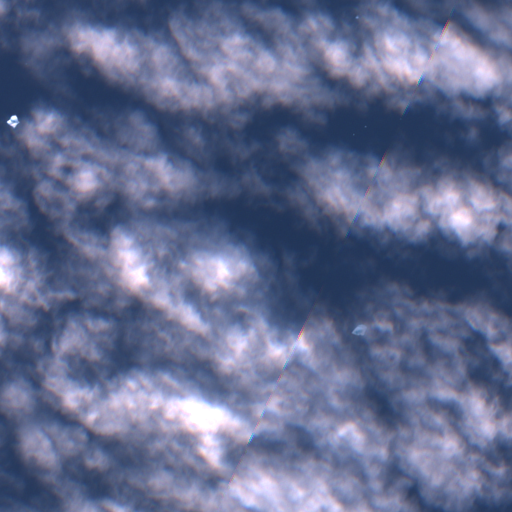Iceberg: (7, 115, 19, 127), (352, 325, 366, 334), (355, 16, 358, 18), (365, 126, 366, 127), (353, 134, 354, 135)
